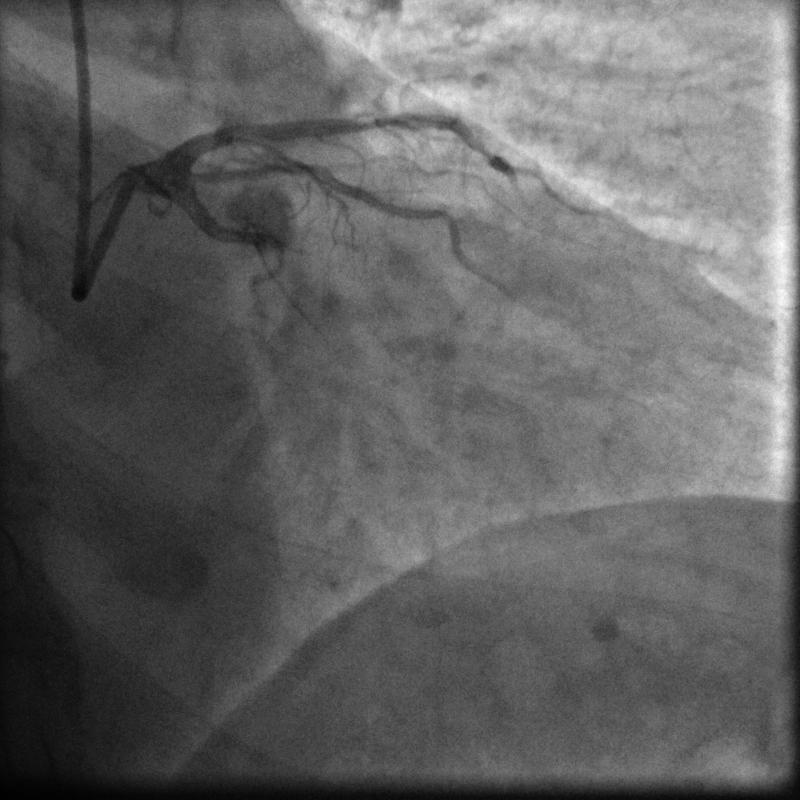Stenosis: (346, 107, 401, 133)
